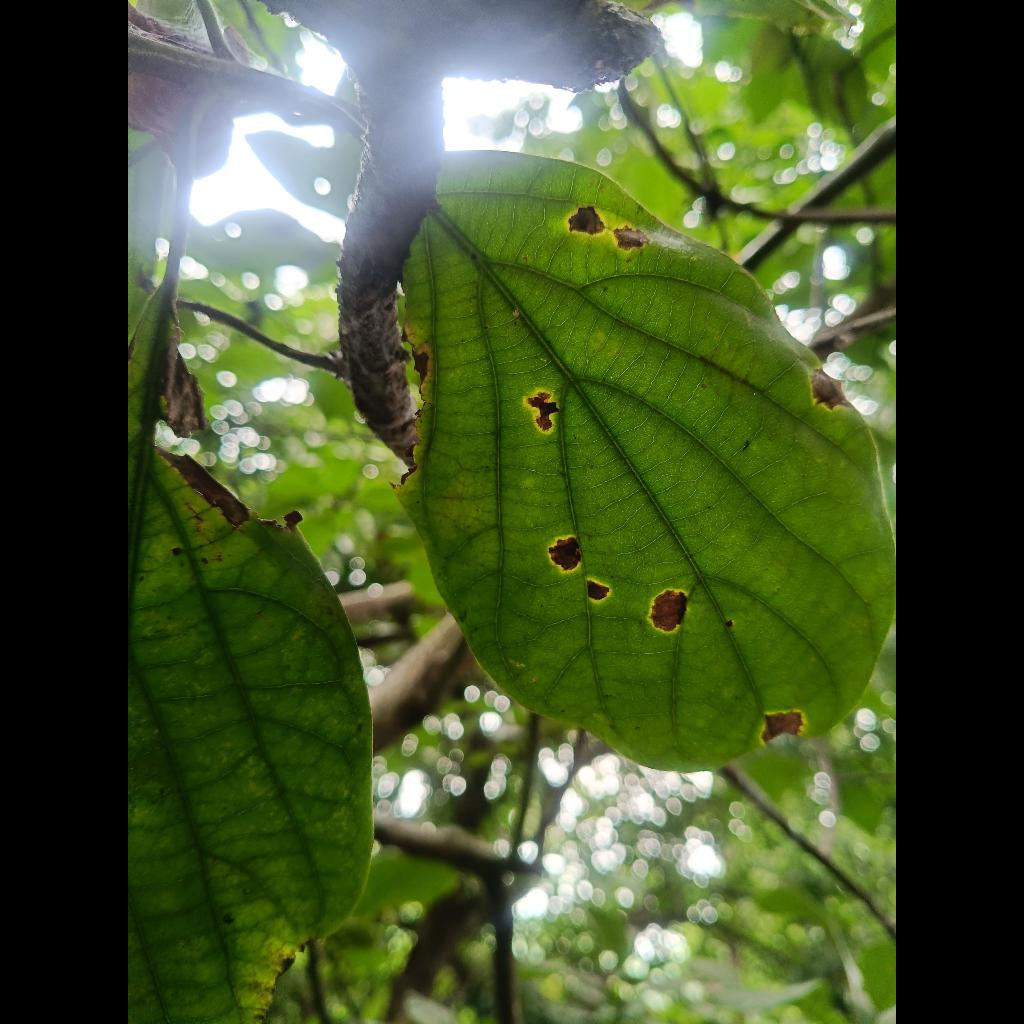Anthracnose: (400, 152, 896, 770)
